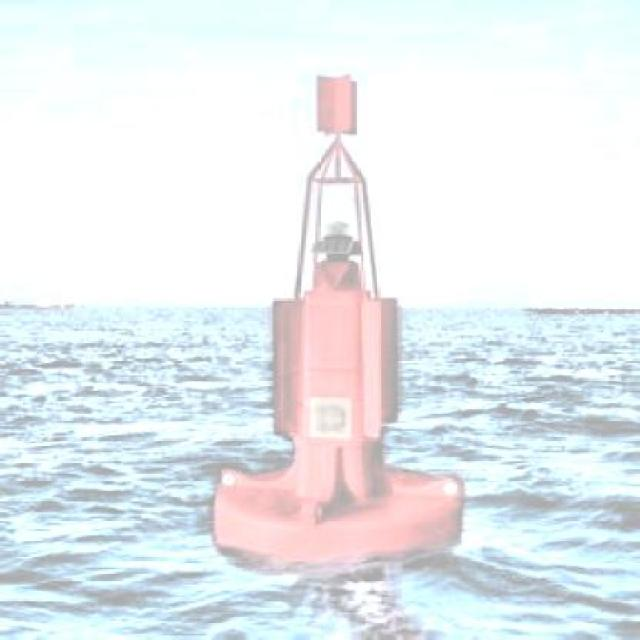Red Buoy: (213, 268, 457, 556)
